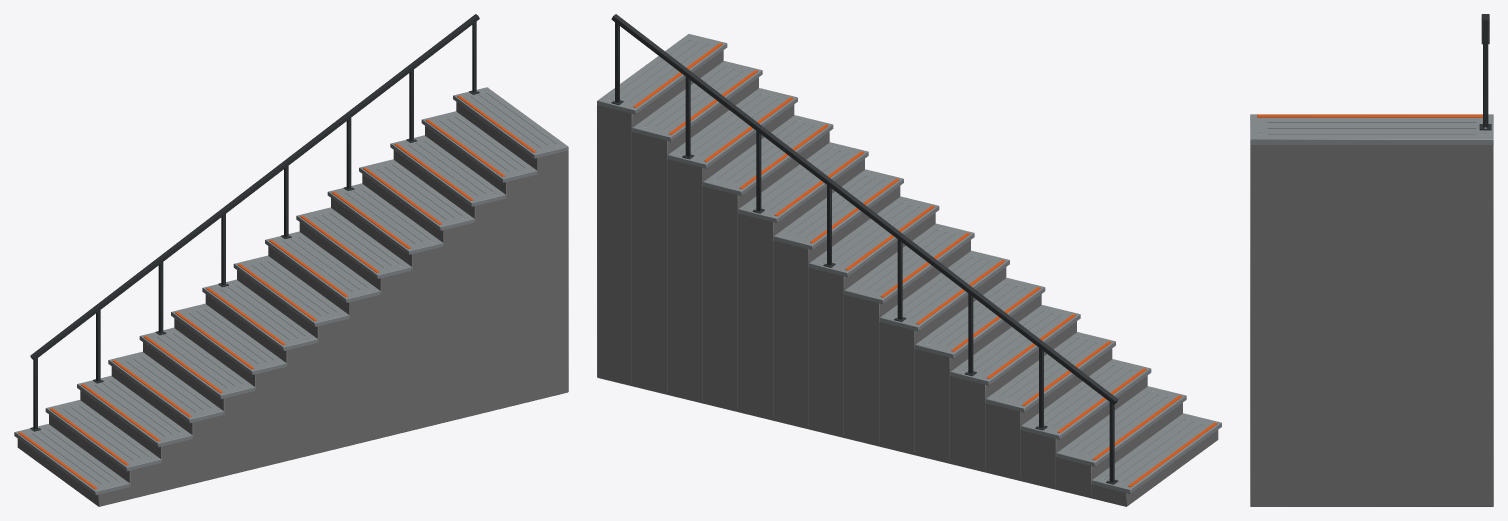
File: loft-stairs.glb
The picture shows the model from 3 angles, left to right: view 1: azimuth 30°, elevation 25°; view 2: azimuth 150°, elevation 25°; view 3: azimuth 270°, elevation 25°; orthographic projection. The views are drawn at different scales.
Visible parts, largest first — view 1: LoftStairs; view 2: LoftStairs; view 3: LoftStairs.
Boxes of the visible parts, <box> form: LoftStairs: <box>14,14,568,506</box>; LoftStairs: <box>597,14,1221,506</box>; LoftStairs: <box>1250,14,1493,506</box>.
Size of the model in its own units: 6.04 by 3.94 by 1.8.
